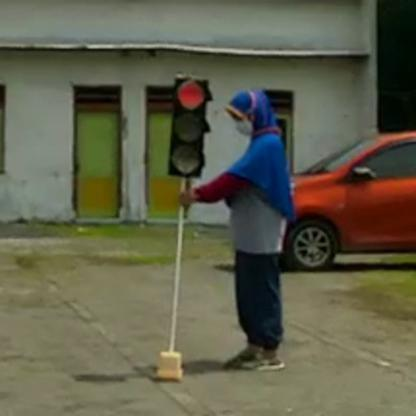red: (169, 78, 207, 180)
